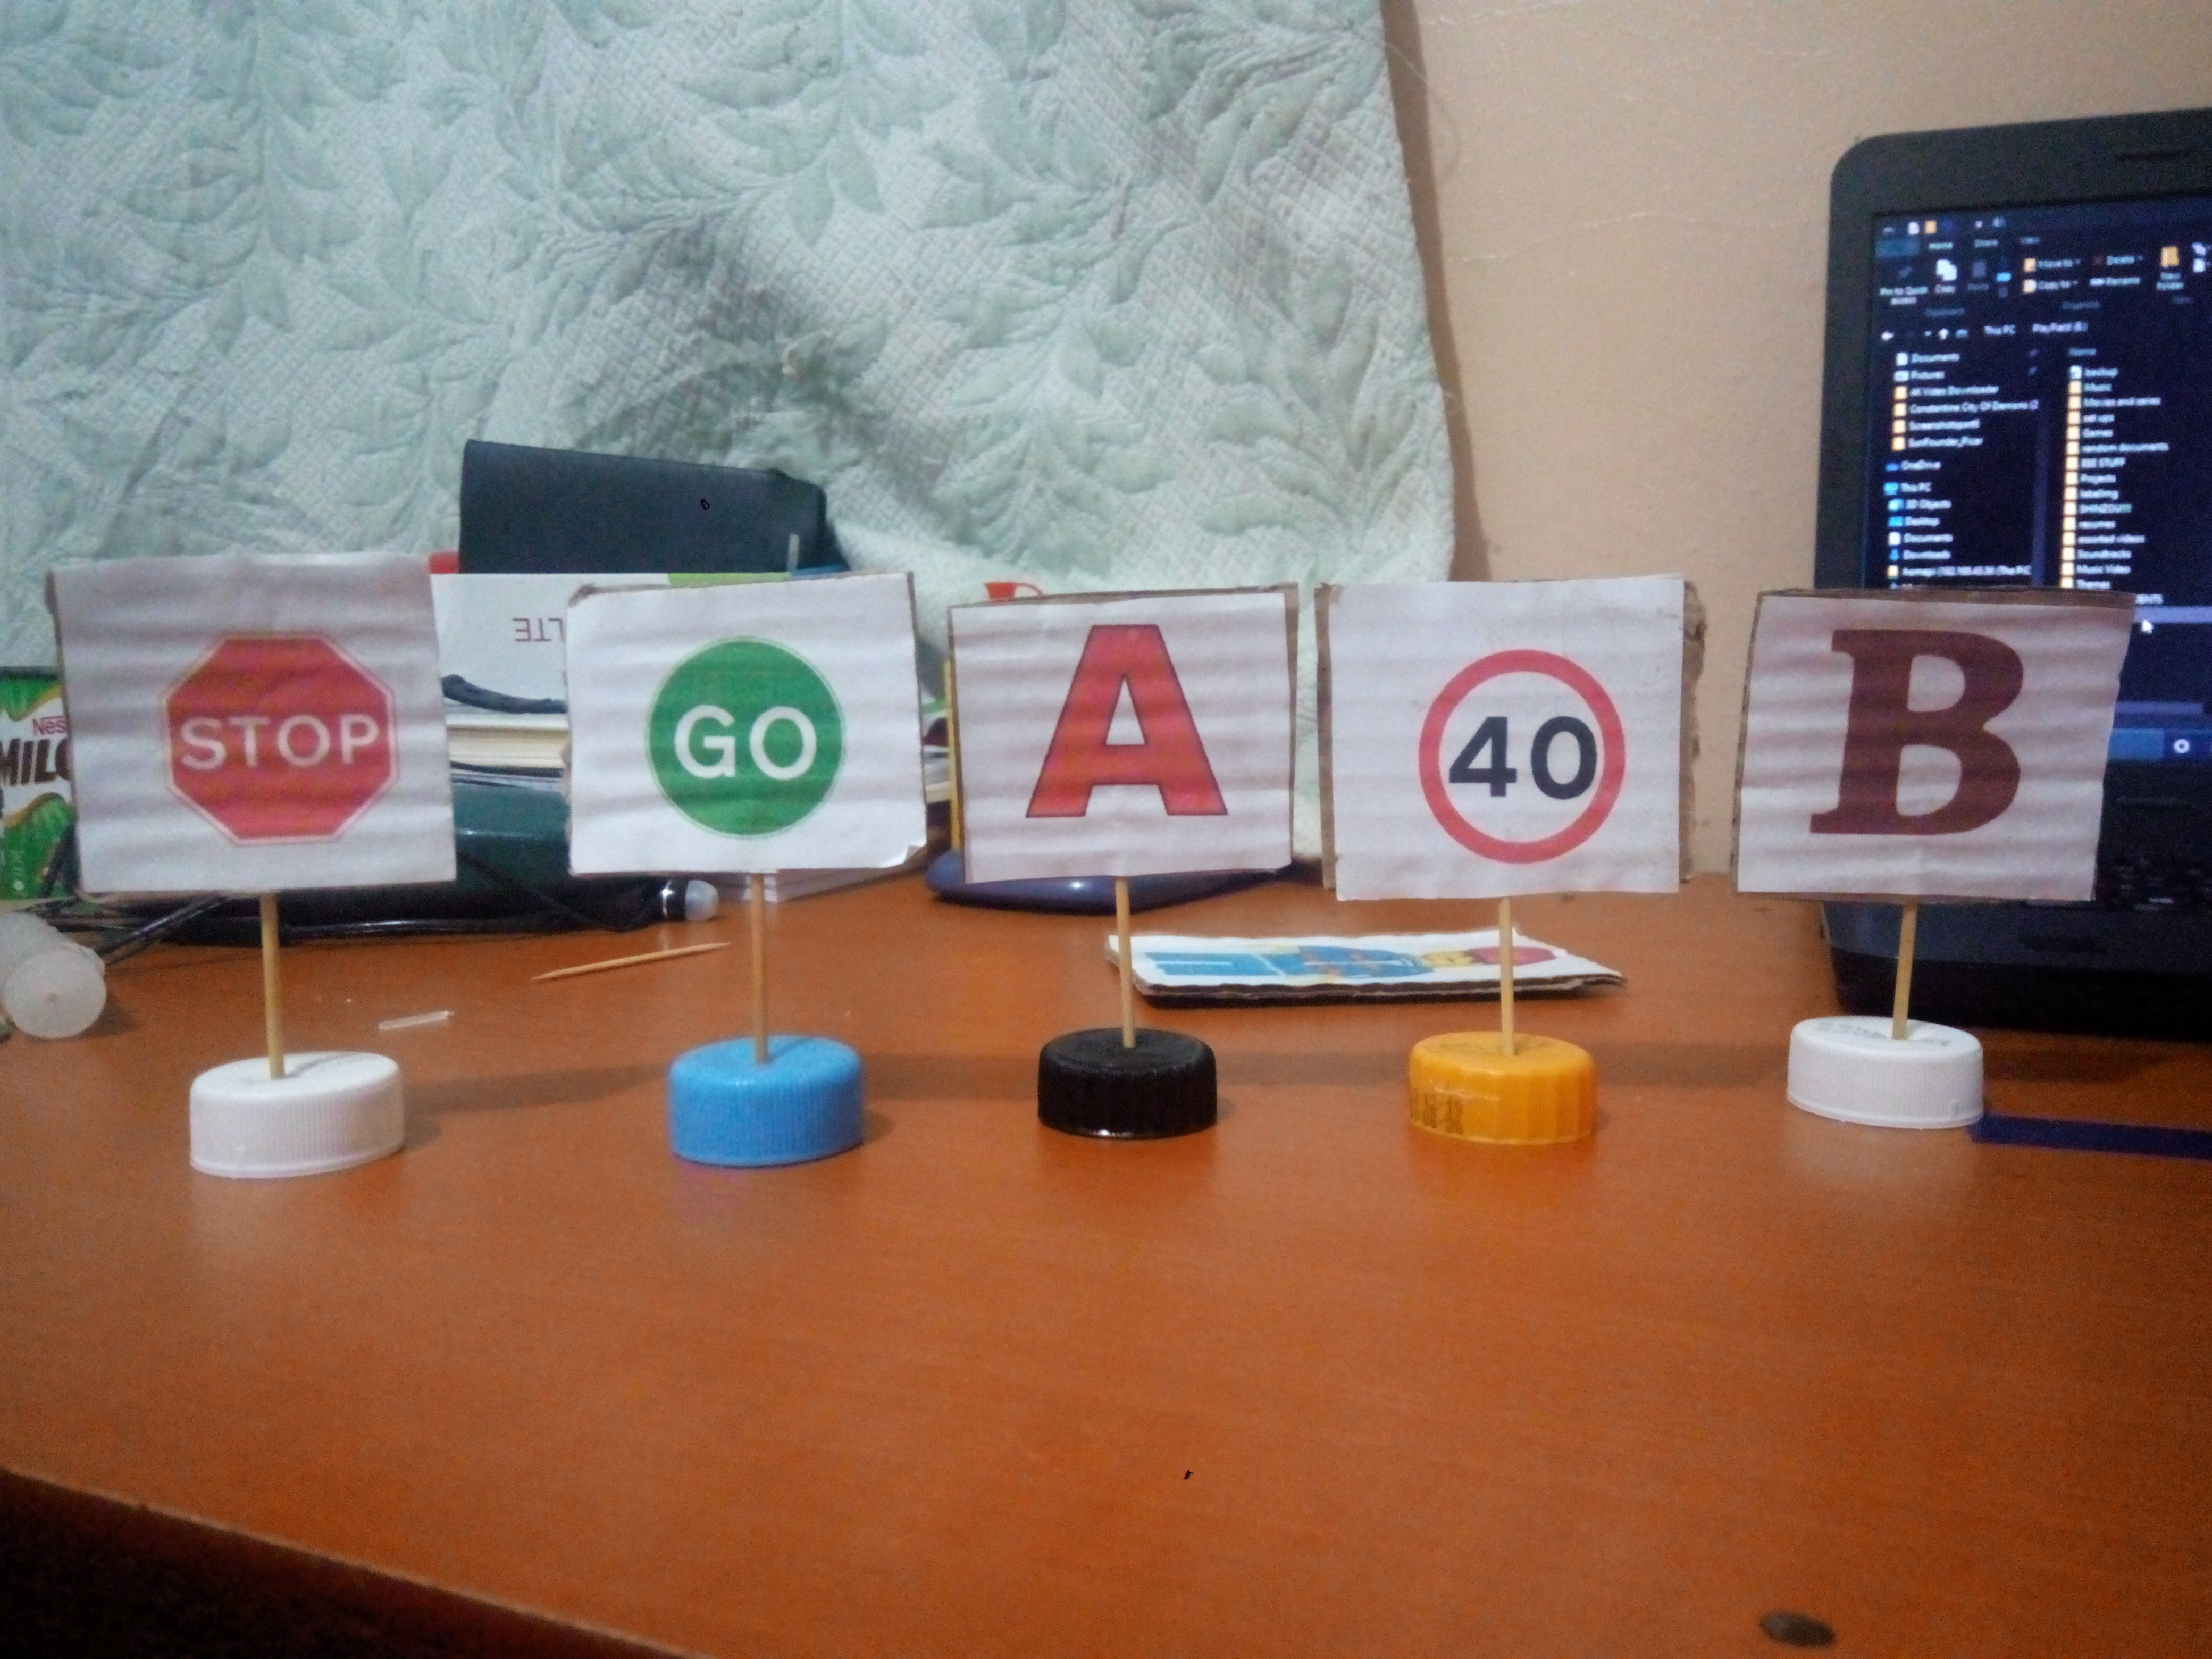40kph: (1399, 624, 1663, 868)
go: (624, 624, 880, 845)
stop: (134, 596, 423, 859)
zone A: (1014, 613, 1259, 857)
zone B: (1796, 612, 2064, 871)
